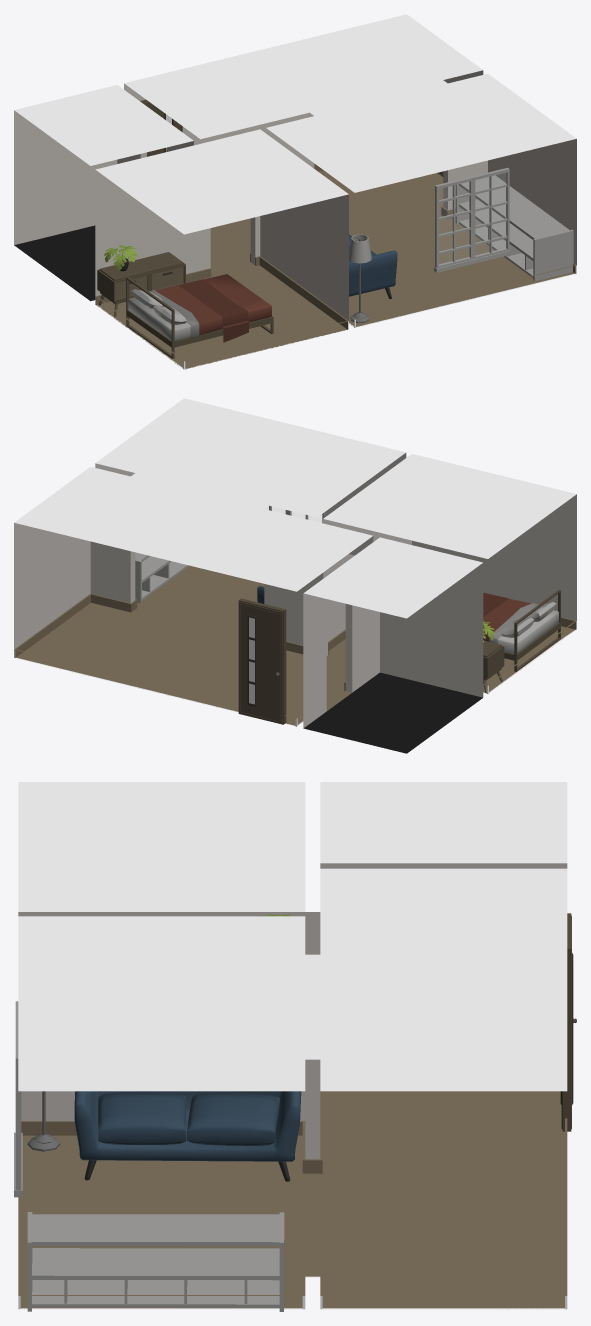
Rendered from 2roomflat.glb.
The picture shows the model from 3 angles, top to bottom: view 1: azimuth 30°, elevation 25°; view 2: azimuth 150°, elevation 25°; view 3: azimuth 270°, elevation 25°; orthographic projection. The views are drawn at different scales.
Visible parts, largest first — view 1: Cube, Bed_King, Window_Large2, Shelf_Small1, Drawer_1, Couch_Medium1, Light_Stand1, Houseplant_7; view 2: Cube, Door_6, Bed_King, Shelf_Small1, Drawer_1; view 3: Cube, Shelf_Small1, Couch_Medium1, Door_6, Window_Large2.
Boxes of the visible parts, x1,y1,x2,y2 form: Cube: (14,14,576,369); Bed_King: (126,274,273,358); Window_Large2: (434,167,510,272); Shelf_Small1: (455,175,573,281); Drawer_1: (97,252,185,316); Couch_Medium1: (349,234,397,298); Light_Stand1: (349,234,371,323); Houseplant_7: (104,245,138,271); Cube: (14,398,576,753); Door_6: (238,598,286,724); Bed_King: (483,590,560,671); Shelf_Small1: (135,552,189,602); Drawer_1: (483,641,504,692); Cube: (18,782,567,1309); Shelf_Small1: (27,1212,284,1311); Couch_Medium1: (74,1091,301,1181); Door_6: (560,913,576,1131); Window_Large2: (14,1001,22,1197).
Size of the model in its own units: 15.21 by 5.06 by 11.7.
